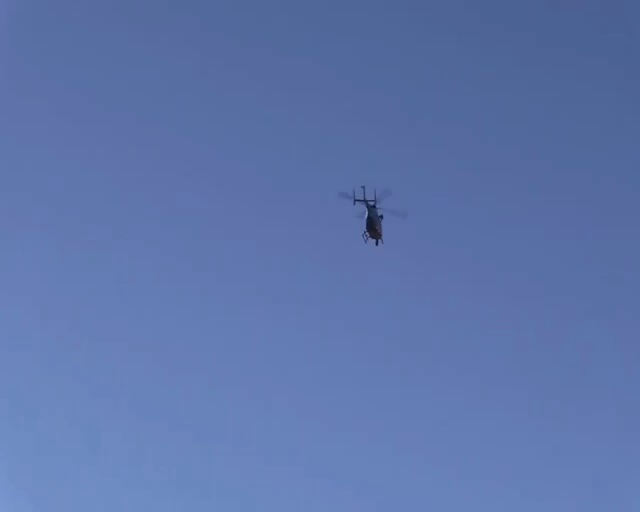HELICOPTER: (337, 184, 408, 246)
